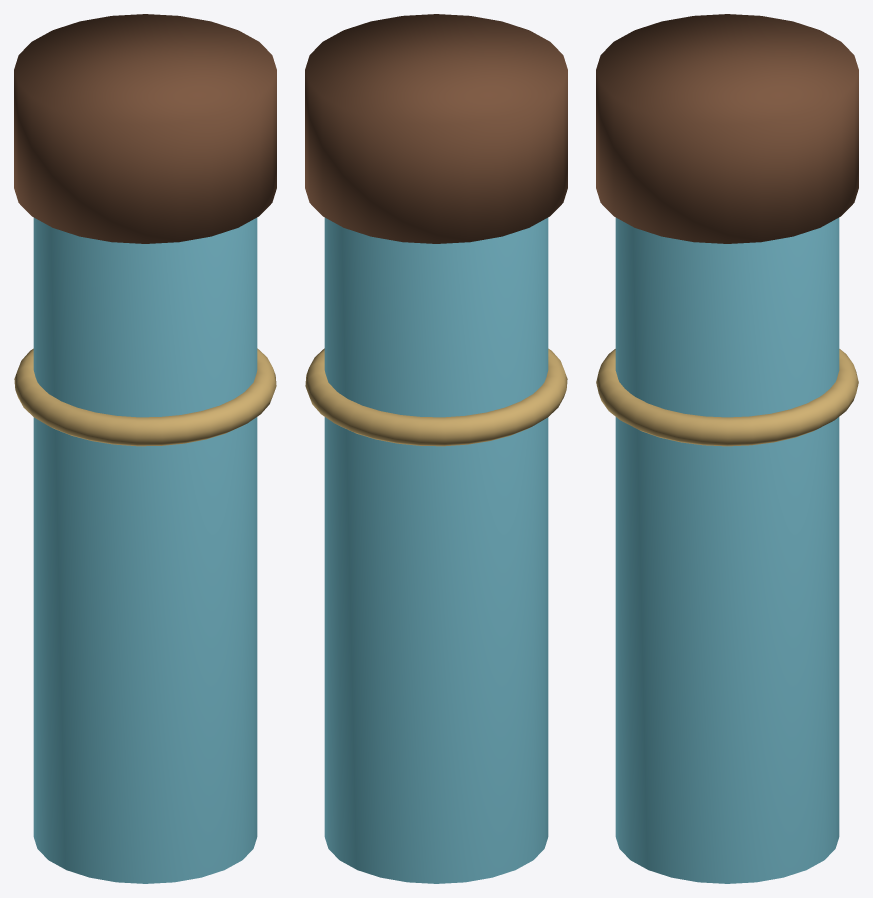
Rendered from Shared_RestorativeVial_REVIEW.glb.
The picture shows the model from 3 angles, left to right: view 1: azimuth 30°, elevation 25°; view 2: azimuth 150°, elevation 25°; view 3: azimuth 270°, elevation 25°; orthographic projection.
Parts seen in each view (by area): view 1: RestorativeVial; view 2: RestorativeVial; view 3: RestorativeVial.
Boxes of the visible parts, x1,y1,x2,y2 form: RestorativeVial: (14,14,276,883); RestorativeVial: (305,14,567,883); RestorativeVial: (596,14,858,883).
Size of the model in its own units: 0.054 by 0.174 by 0.054.
